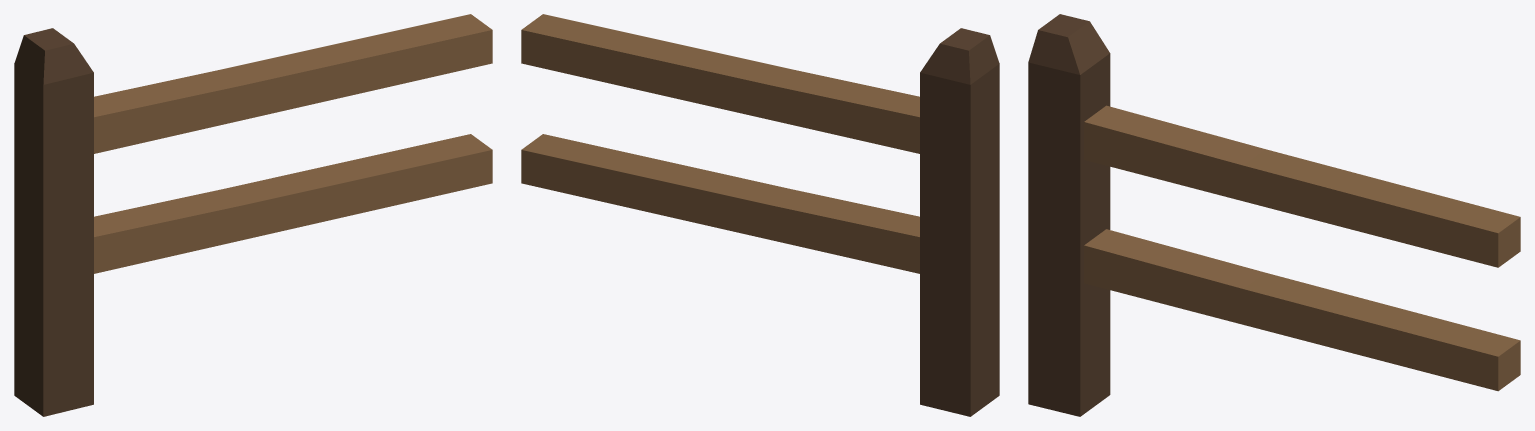
The model's file is two_rail_fence.glb.
The picture shows the model from 3 angles, left to right: view 1: azimuth 30°, elevation 25°; view 2: azimuth 150°, elevation 25°; view 3: azimuth 330°, elevation 25°; orthographic projection. The views are drawn at different scales.
Visible parts, largest first — view 1: Two-rail fence; view 2: Two-rail fence; view 3: Two-rail fence.
Part boxes in pixels (x1,y1,x2,y2): Two-rail fence: (14, 14, 492, 416); Two-rail fence: (521, 14, 999, 416); Two-rail fence: (1028, 14, 1520, 416).
Size of the model in its own units: 1.06 by 0.809 by 0.118.
